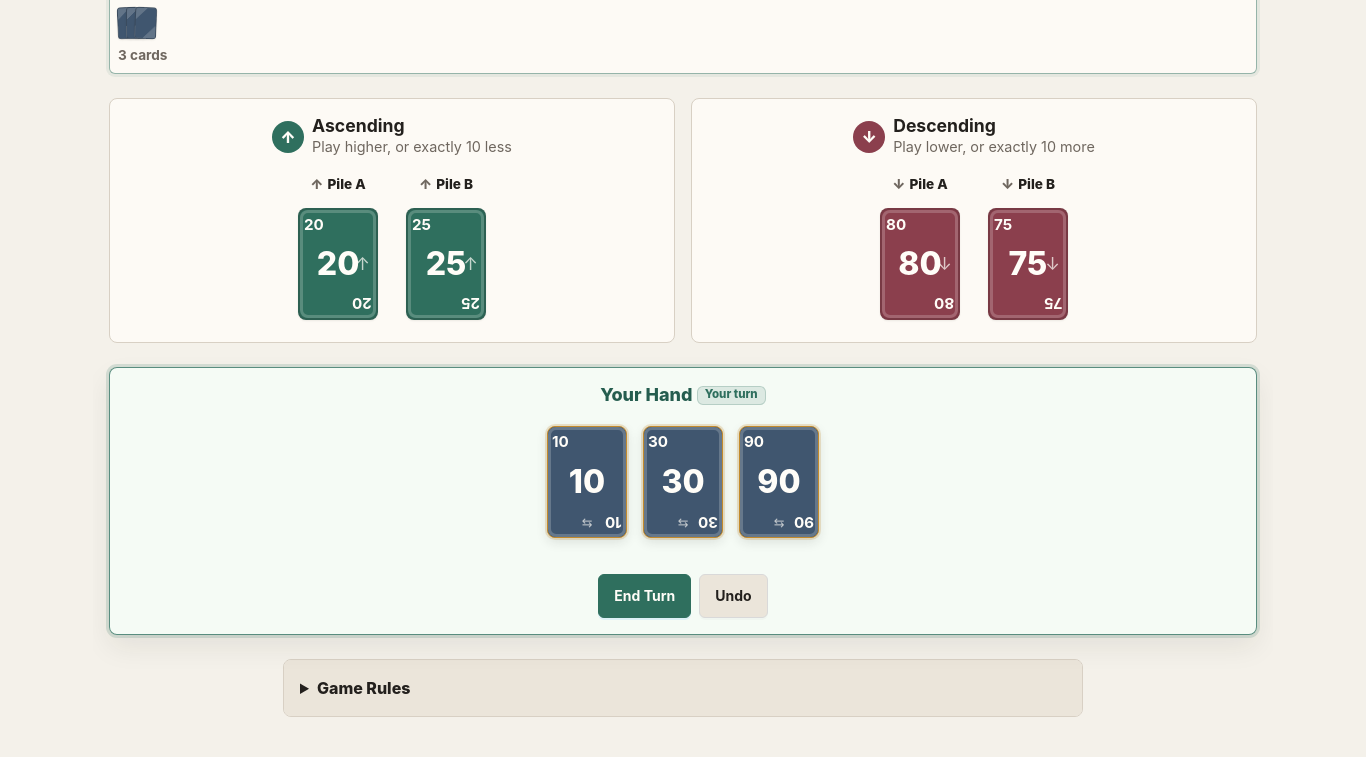
Test: board status rendering › clears selected card when ending the turn
The width and height of the screenshot is (1366, 757).
(page scrolled)
Click the button named "hand card 30" at (683, 482), box [643,426,723,538]
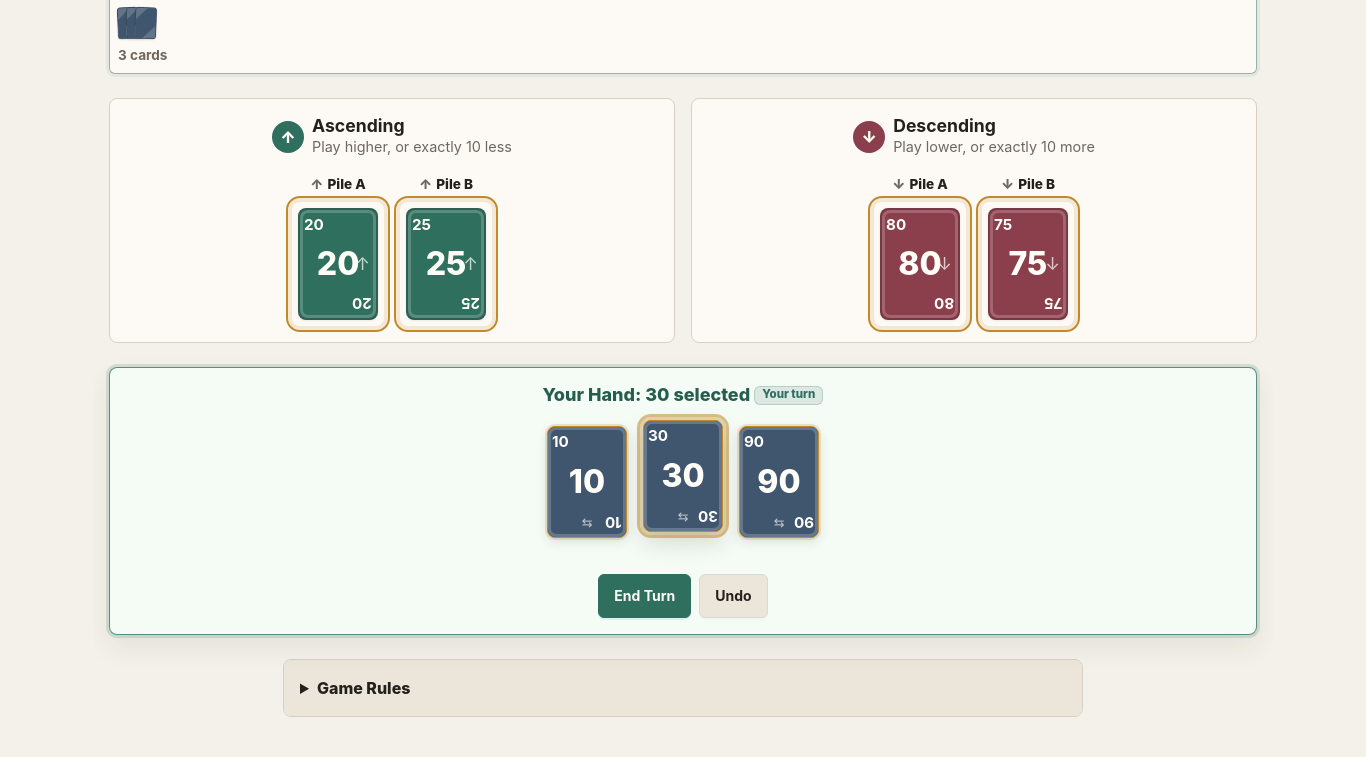
Result: the text "Your Hand: 30 selected" is shown at [542,384,750,406]
Click the button "End Turn" at (645, 596), box [598,574,691,618]
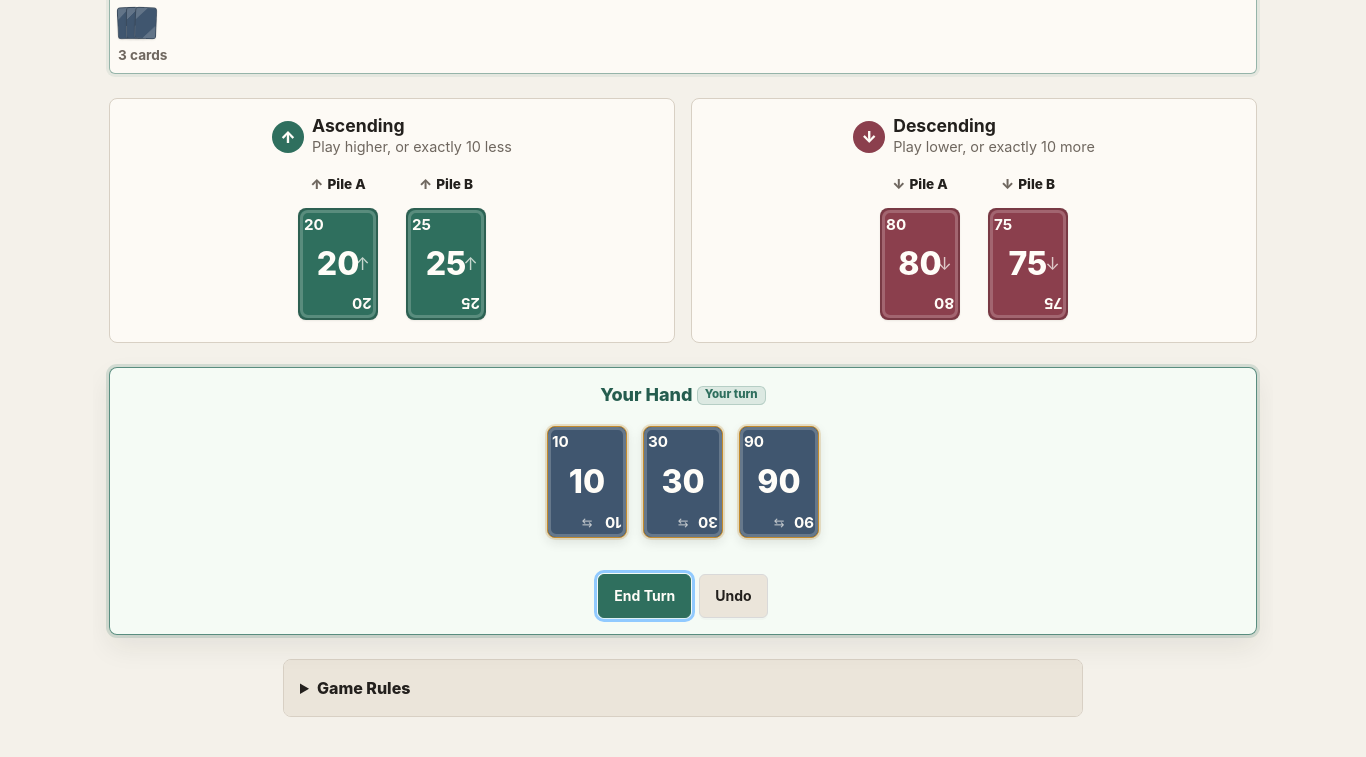
Result: the text "Your Hand: 30 selected" is gone
